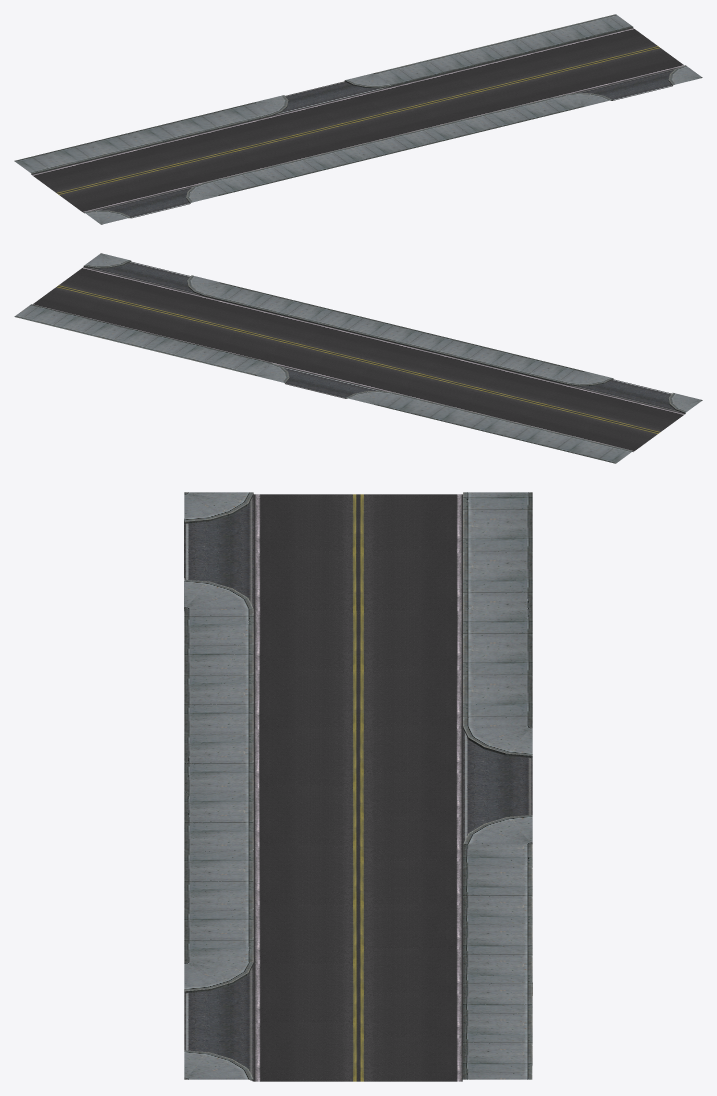
File: laeroad06.obj
The picture shows the model from 3 angles, top to bottom: view 1: azimuth 30°, elevation 25°; view 2: azimuth 150°, elevation 25°; view 3: azimuth 270°, elevation 25°; orthographic projection. The views are drawn at different scales.
Visible parts, largest first — view 1: laeroad06; view 2: laeroad06; view 3: laeroad06.
Part boxes in pixels (box(x1,y1,x2,y2)): laeroad06: box(14, 14, 702, 224); laeroad06: box(14, 253, 702, 463); laeroad06: box(184, 492, 532, 1081).
Size of the model in its own units: 99.78 by 0.1814 by 25.03.
